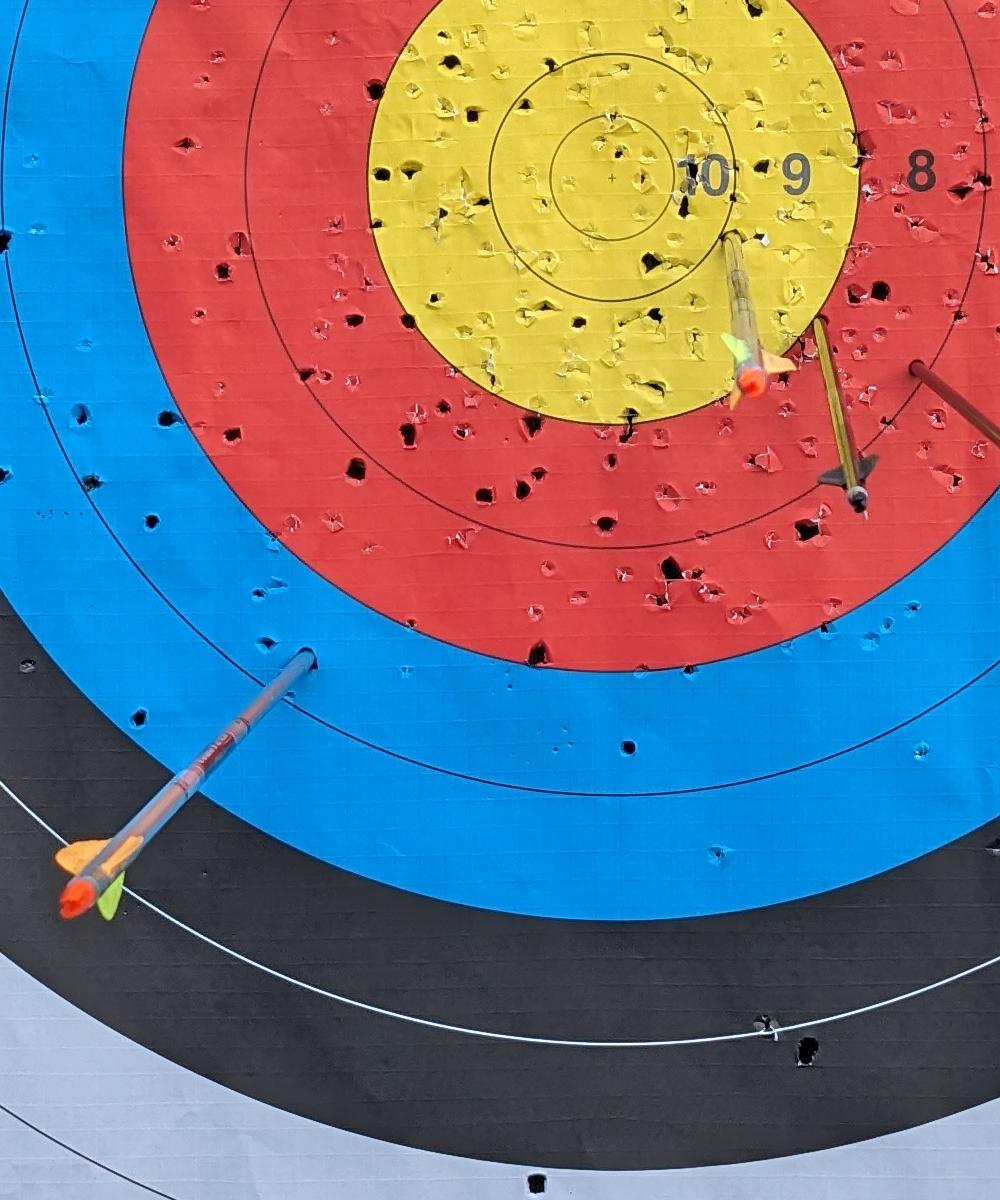10-Ring: (467, 32, 757, 322)
6-Ring: (9, 0, 1000, 795)
7-Ring: (125, 0, 1000, 672)
8-Ring: (245, 0, 985, 550)
9-Ring: (368, 0, 857, 425)
Arrow: (28, 605, 318, 943), (795, 313, 884, 518), (710, 228, 799, 411)
